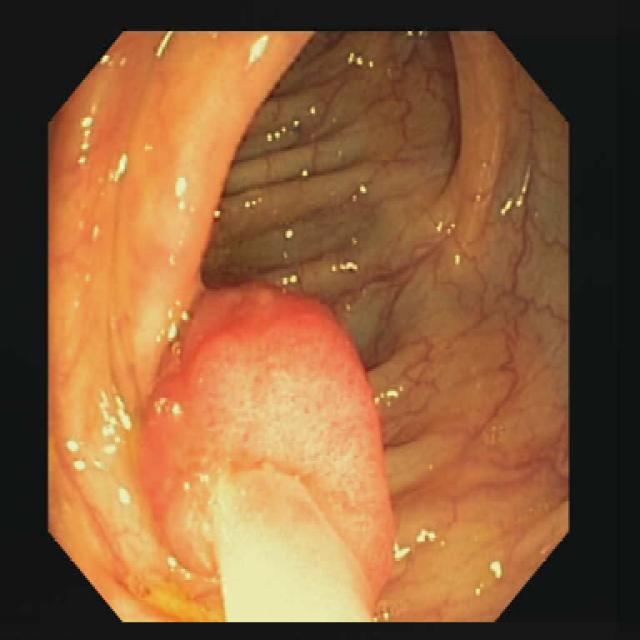tumor: (142, 287, 393, 620)
